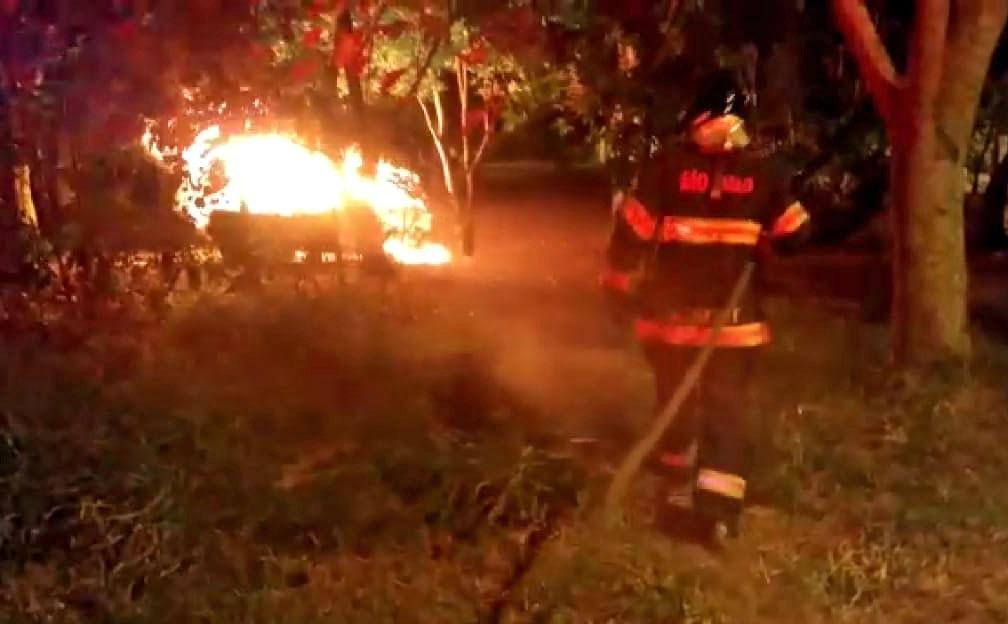fire: (135, 124, 452, 264)
